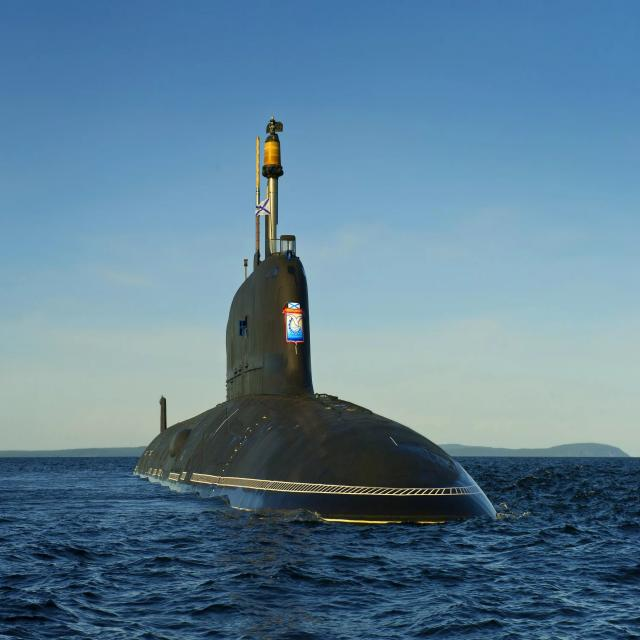submarine: (131, 100, 509, 539)
